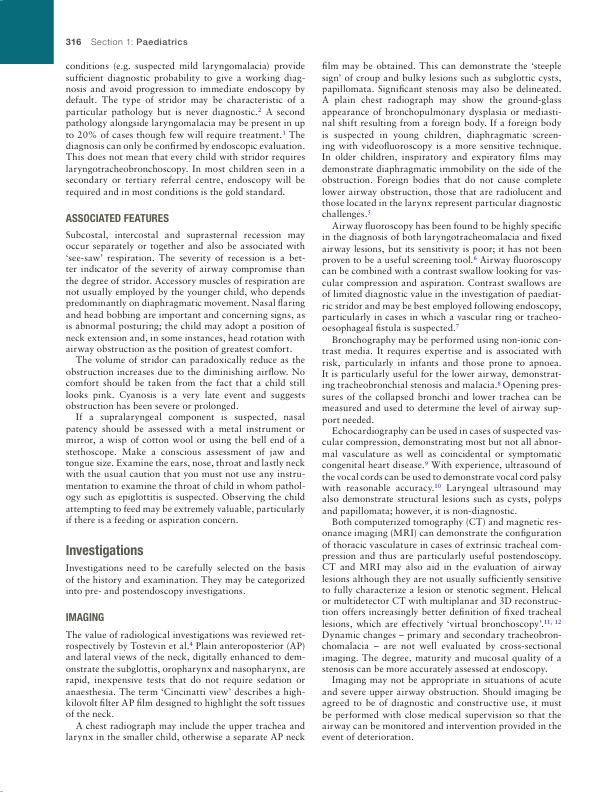header: (89, 37, 189, 47)
sub-section-heading: (65, 544, 144, 559), (65, 213, 170, 223), (65, 611, 105, 623)
text: (320, 60, 563, 742), (65, 230, 306, 527), (64, 60, 306, 199), (65, 630, 306, 743), (64, 562, 306, 599)
